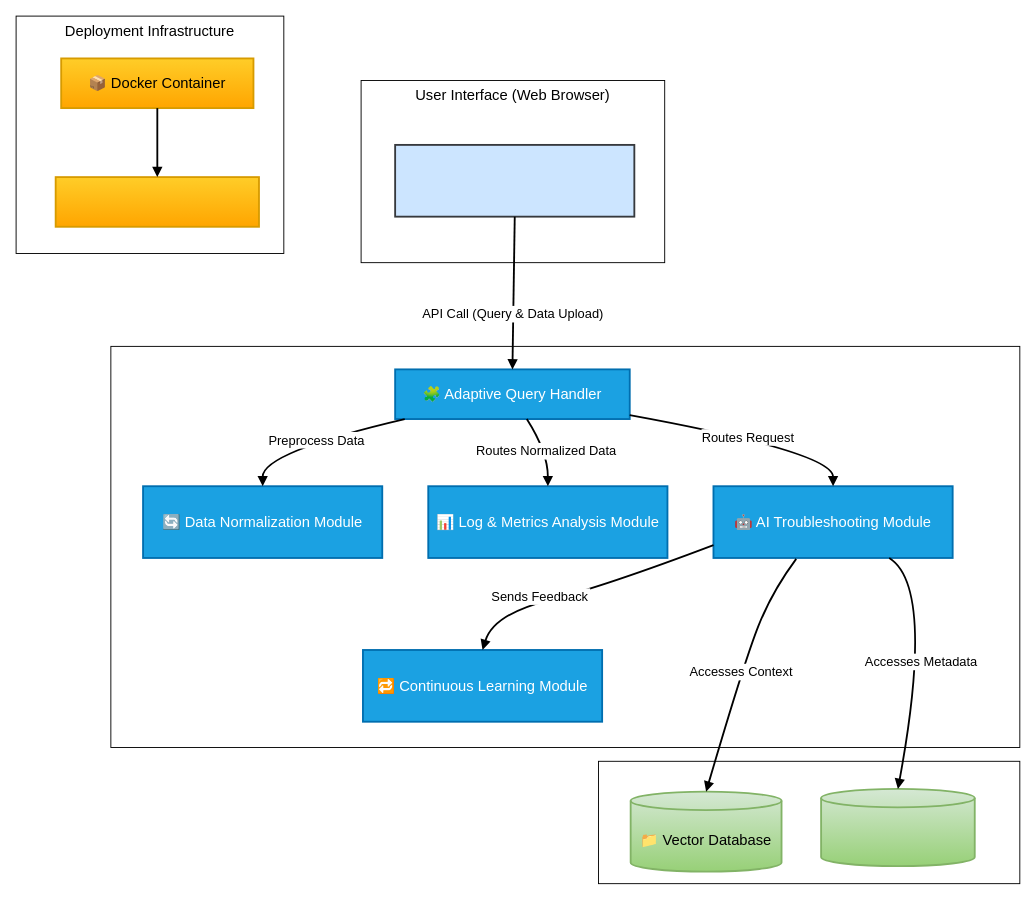
The diagram is 1036 pixels wide and 900 high, and some of its shapes have lost their labels. Here are the shapes that lost their labels. From the top down, the box of each, then its label:
(394, 144, 635, 217): 🌍 Web UI / Browser Extension
(54, 176, 259, 227): ☸️ Kubernetes Cluster
(110, 345, 1020, 748): Unified API & Query Handler
(598, 760, 1020, 884): Stateful Data Storage
(820, 788, 975, 867): 🗄️ Relational Database
